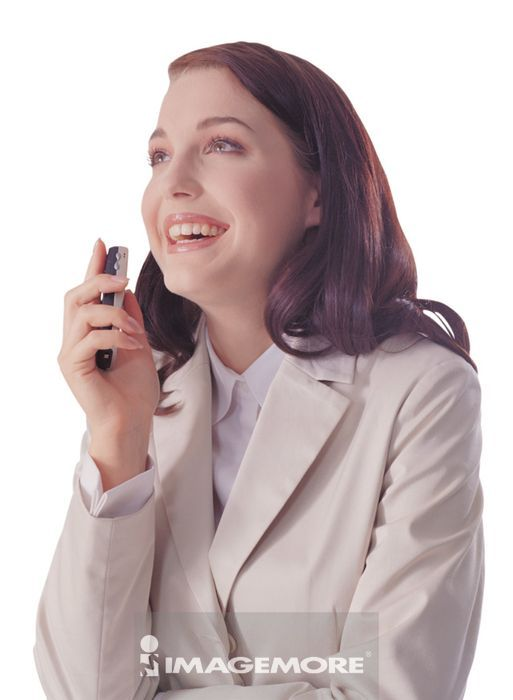phone: (97, 244, 133, 380)
